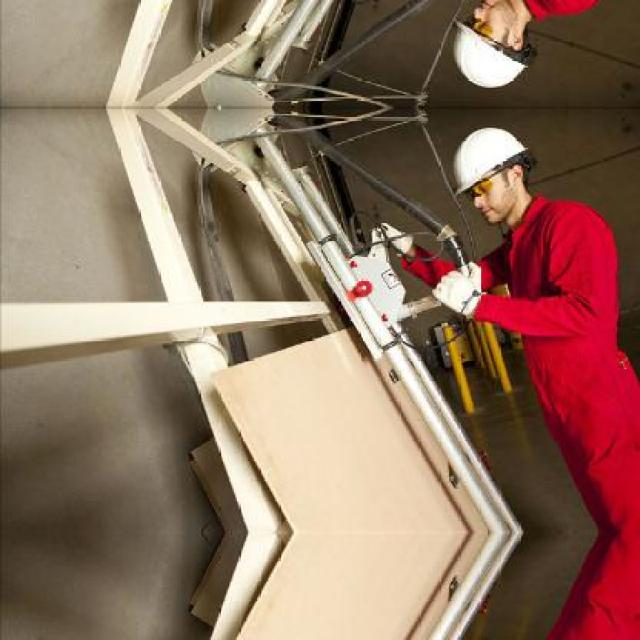helmet: (437, 112, 541, 223), (437, 0, 543, 102)
